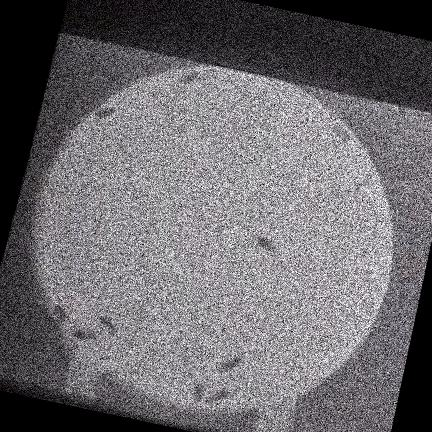fly: (220, 353, 244, 370), (98, 313, 117, 334), (206, 387, 232, 402), (331, 123, 351, 142), (254, 235, 276, 252), (178, 69, 200, 83), (73, 328, 97, 340), (193, 381, 207, 401), (53, 303, 67, 322), (95, 106, 113, 118)
